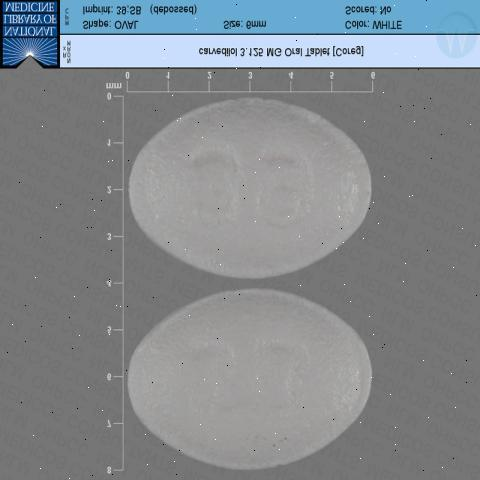Pill: (102, 100, 440, 280), (110, 287, 418, 464)
